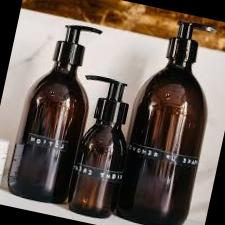glass: (102, 6, 225, 225), (0, 3, 115, 207), (61, 65, 147, 223)
